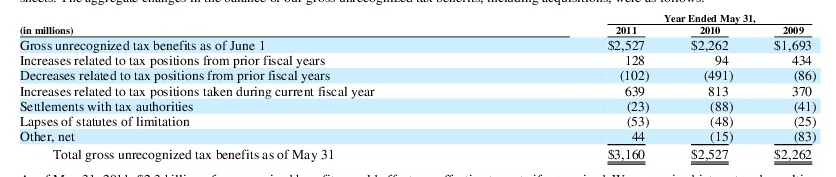table: (0, 0, 836, 177)
